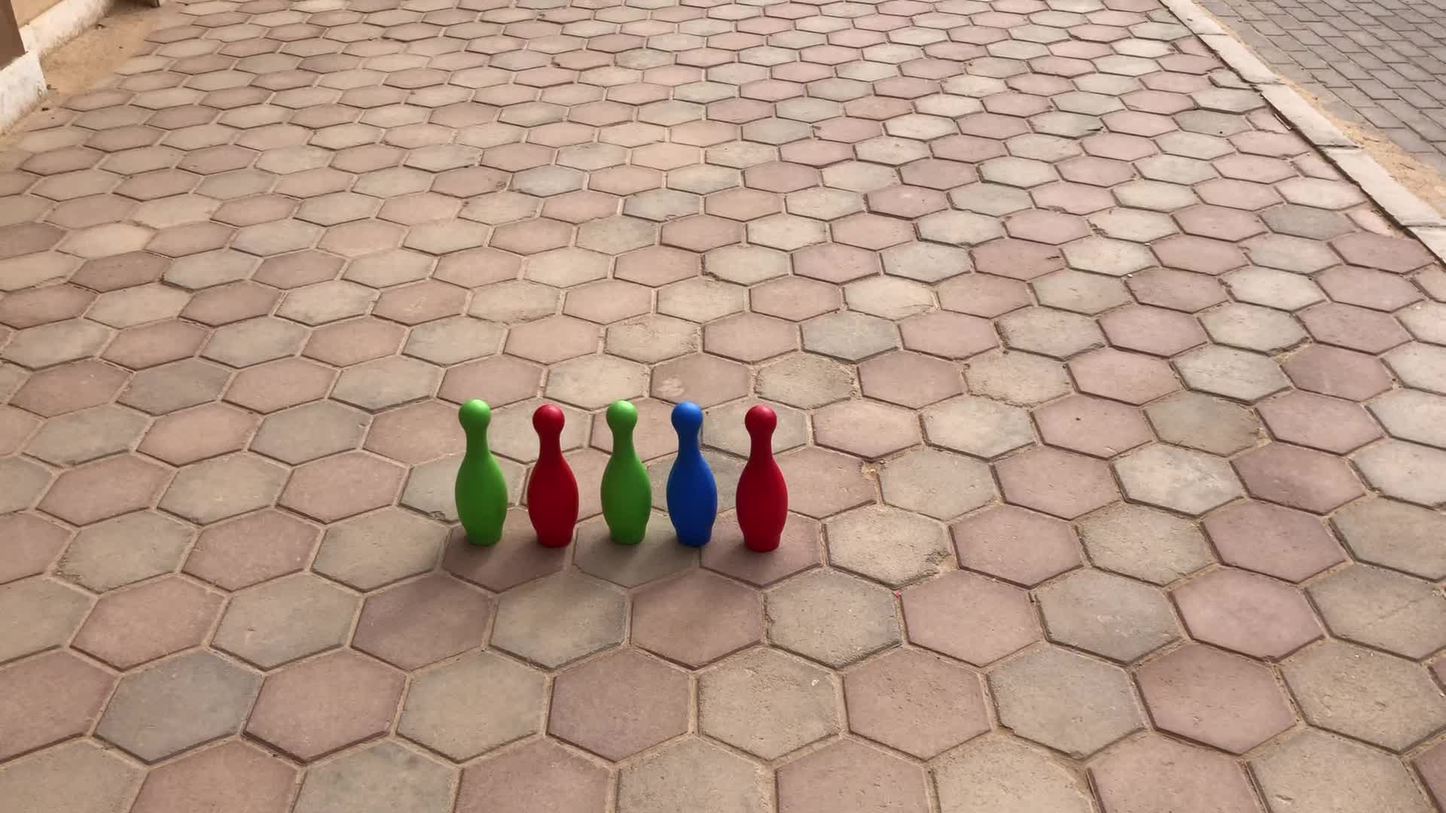bowling-pin: (455, 400, 508, 546), (527, 405, 579, 549), (737, 405, 787, 552), (667, 402, 717, 547), (602, 400, 651, 544)
